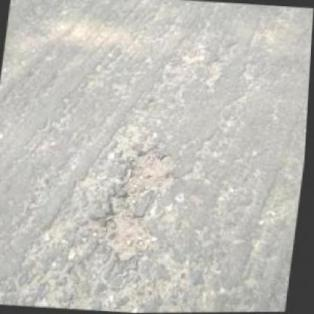Hueco: (92, 148, 177, 264)
